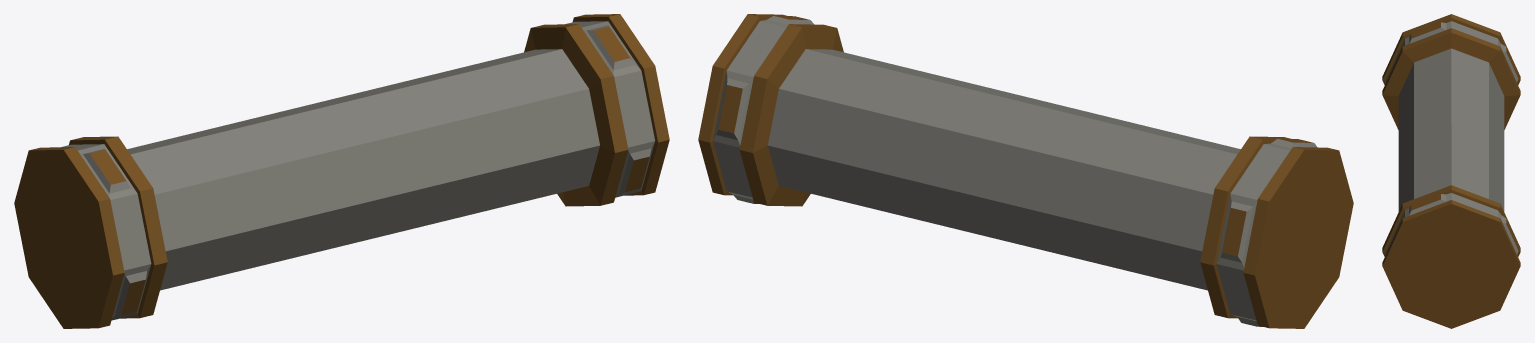
The model's file is pipe.fbx.
3 renders of one model, left to right at view 1: azimuth 30°, elevation 25°; view 2: azimuth 150°, elevation 25°; view 3: azimuth 270°, elevation 25°, orthographic. The views are drawn at different scales.
Parts seen in each view (by area): view 1: Pipe _Light; view 2: Pipe _Light; view 3: Pipe _Light.
Boxes of the visible parts, <box> form: Pipe _Light: <box>14,14,669,328</box>; Pipe _Light: <box>698,14,1353,328</box>; Pipe _Light: <box>1382,14,1520,328</box>.
Bounding box in the file's own units: 92.16 × 28.34 × 28.34.
